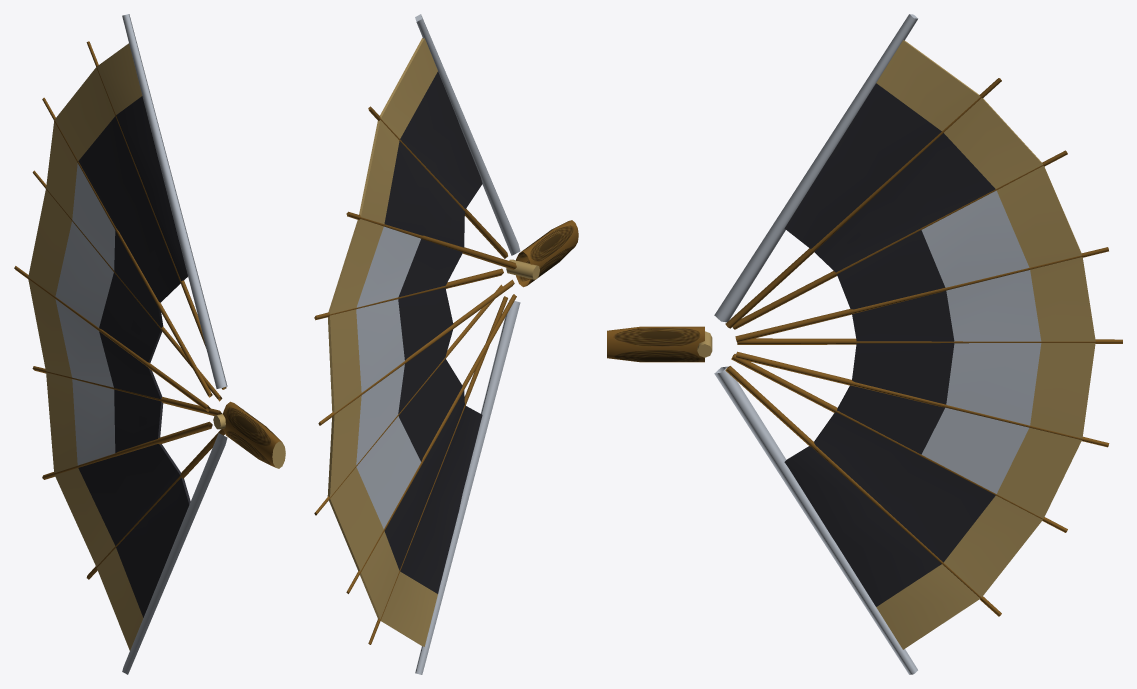
Rendered from tessen.glb.
3 renders of one model, left to right at view 1: azimuth 30°, elevation 25°; view 2: azimuth 150°, elevation 25°; view 3: azimuth 270°, elevation 25°, orthographic.
Visible parts, largest first — view 1: main; view 2: main; view 3: main.
Boxes of the visible parts, x1,y1,x2,y2 form: main: [14, 14, 285, 674]; main: [314, 14, 578, 674]; main: [607, 14, 1122, 674].
Bounding box in the file's own units: 0.028 × 0.6717 × 0.475.
4 materials, 2 textured.
